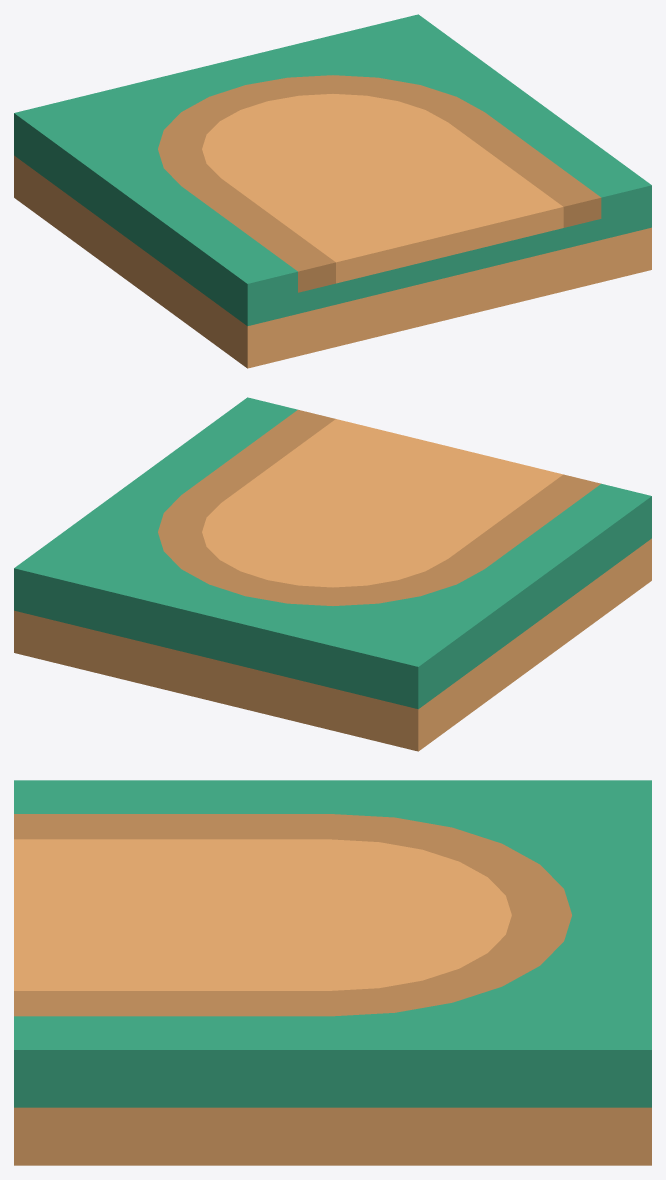
File: tile_endRound(+).fbx
3 renders of one model, top to bottom at view 1: azimuth 30°, elevation 25°; view 2: azimuth 150°, elevation 25°; view 3: azimuth 270°, elevation 25°, orthographic. The views are drawn at different scales.
Visible parts, largest first — view 1: Mesh_0; view 2: Mesh_0; view 3: Mesh_0.
Boxes of the visible parts, x1,y1,x2,y2 form: Mesh_0: (14, 14, 651, 368); Mesh_0: (14, 397, 651, 751); Mesh_0: (14, 780, 651, 1165).
Bounding box in the file's own units: 100 × 20 × 100.
